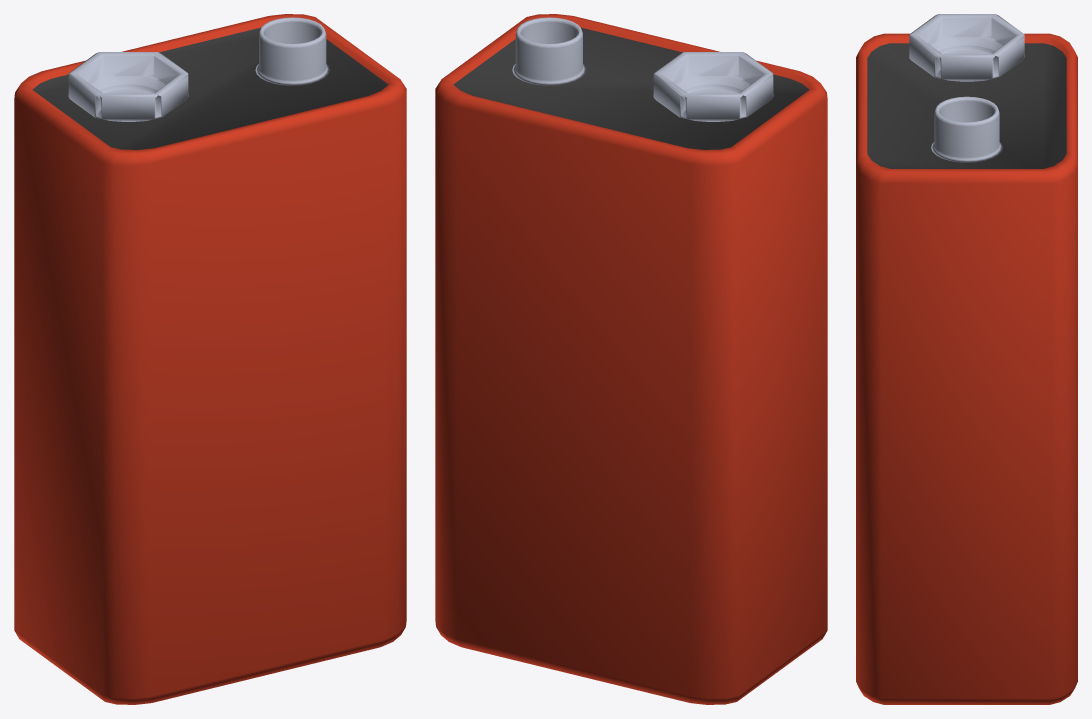
Rendered from 9v_battery.fbx.
The picture shows the model from 3 angles, left to right: view 1: azimuth 30°, elevation 25°; view 2: azimuth 150°, elevation 25°; view 3: azimuth 270°, elevation 25°; orthographic projection. The views are drawn at different scales.
Visible parts, largest first — view 1: Cylinder; view 2: Cylinder; view 3: Cylinder.
Boxes of the visible parts, <box> form: Cylinder: <box>14,14,406,704</box>; Cylinder: <box>435,14,827,704</box>; Cylinder: <box>856,14,1077,704</box>.
Size of the model in its own units: 26 by 47.7 by 17.
